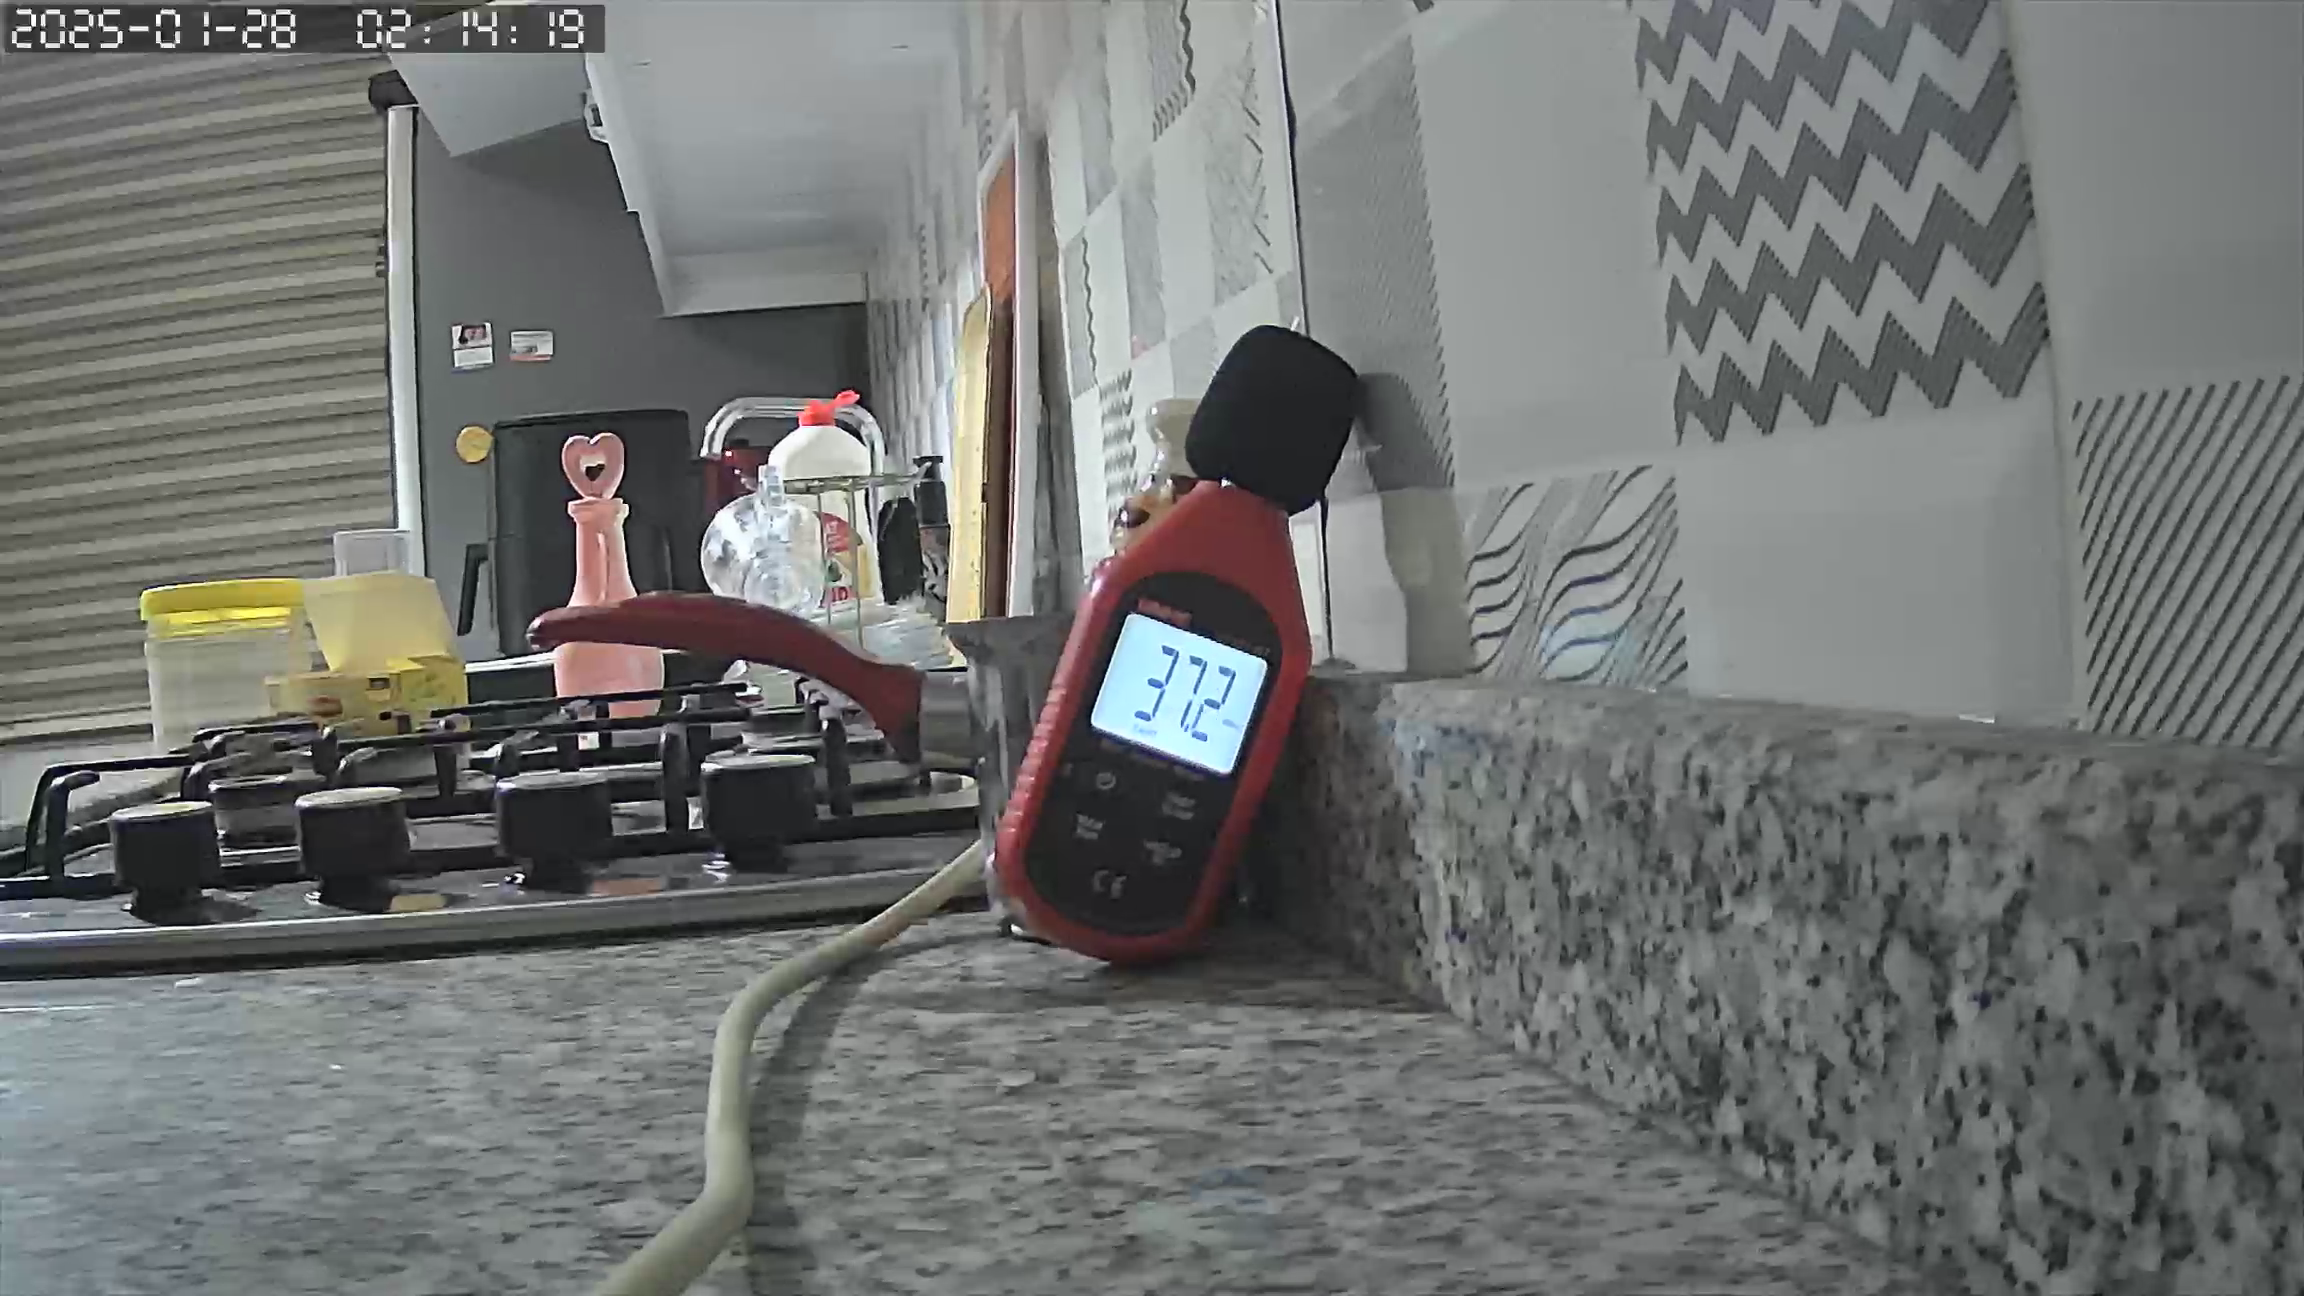screen: (1087, 616, 1271, 775)
